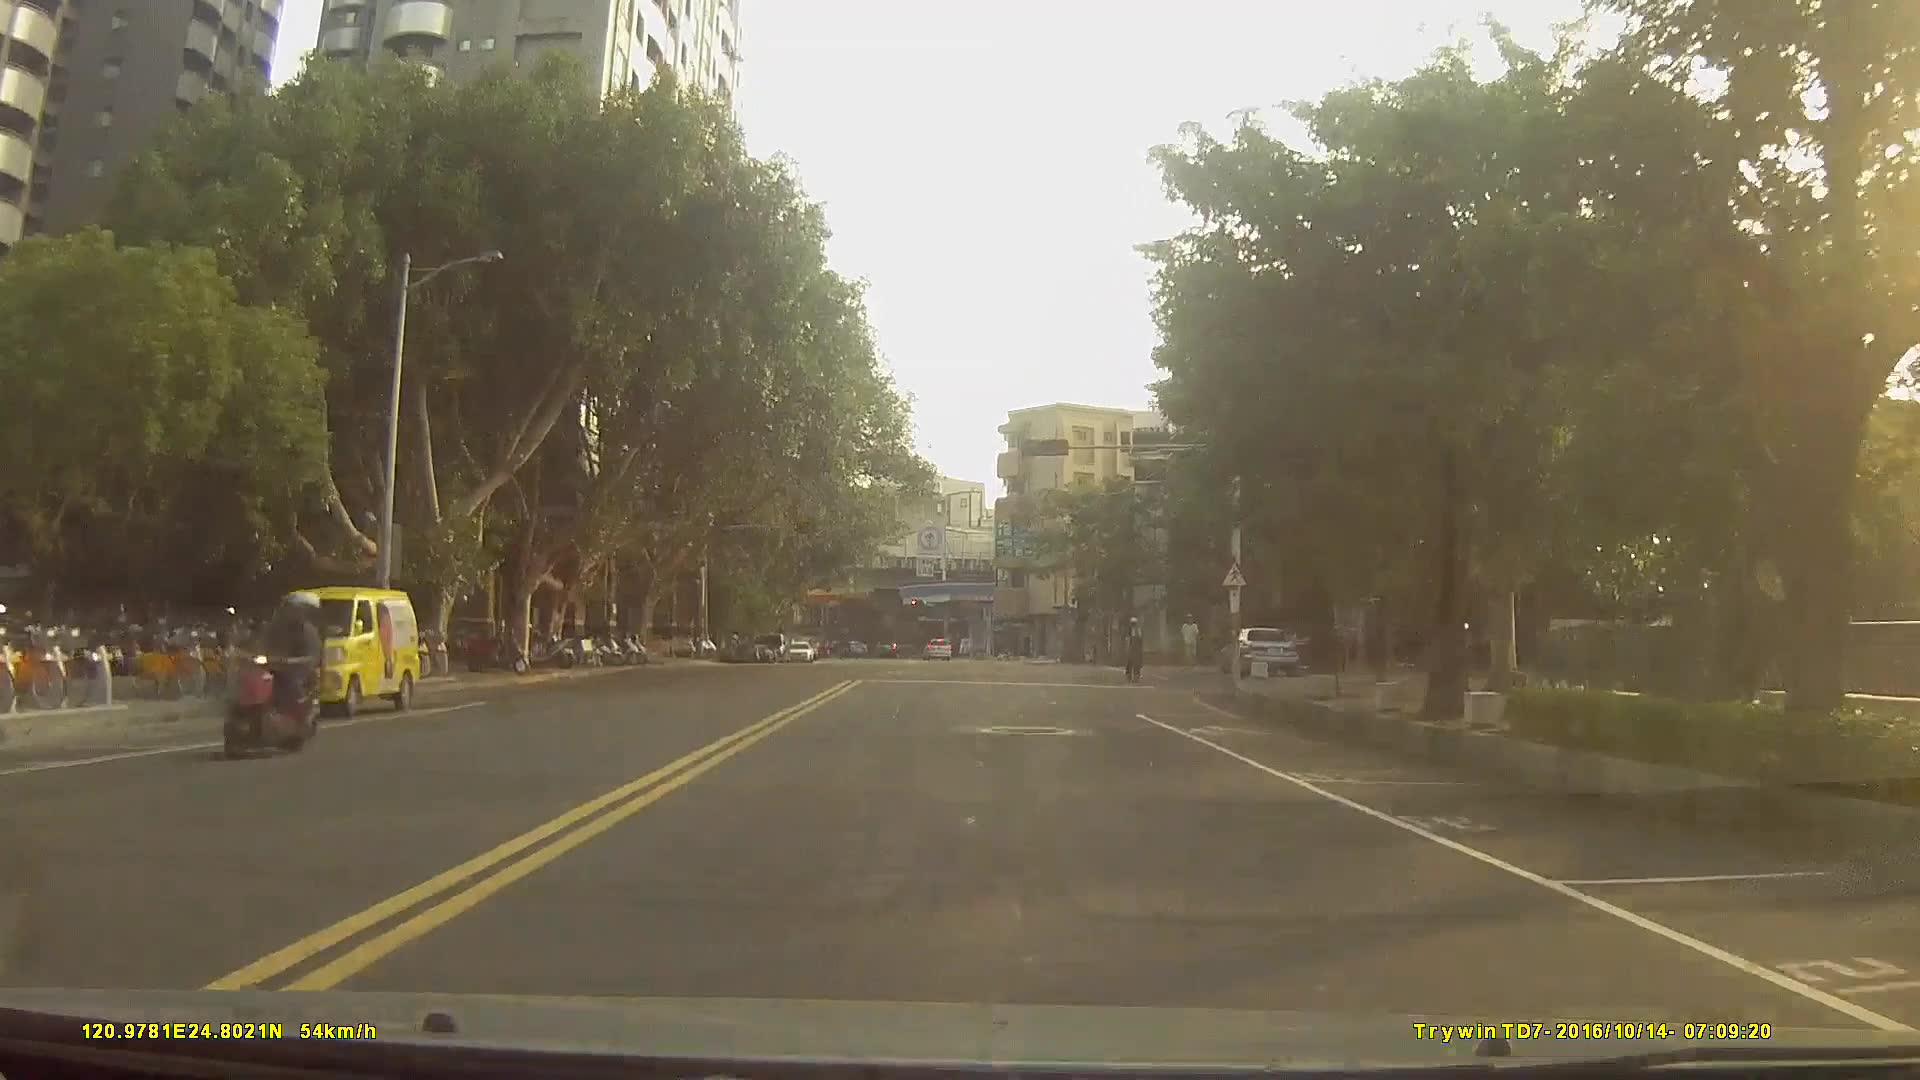pedestrian: (1181, 617, 1204, 681)
rider: (222, 591, 332, 759), (1121, 618, 1148, 680)
vehicle: (1214, 626, 1302, 677), (925, 636, 952, 660), (784, 639, 815, 661)
